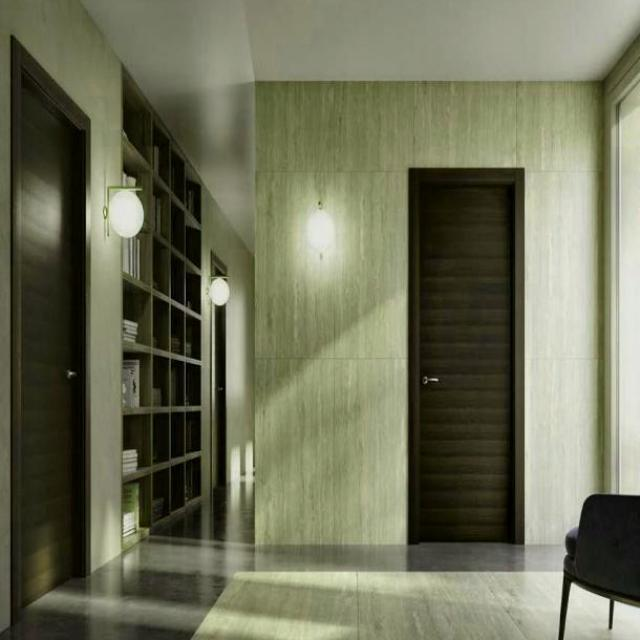door: (9, 34, 90, 628), (407, 167, 520, 544)
